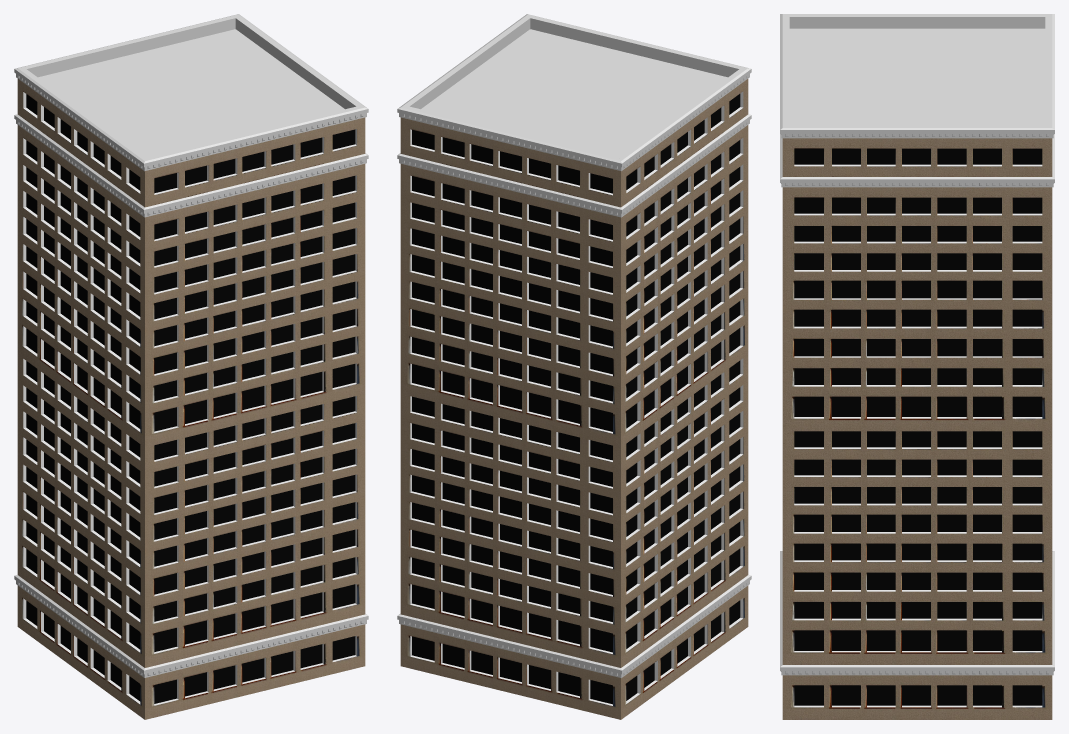
Rendered from buildingbig1.glb.
3 renders of one model, left to right at view 1: azimuth 30°, elevation 25°; view 2: azimuth 150°, elevation 25°; view 3: azimuth 270°, elevation 25°, orthographic. The views are drawn at different scales.
Parts seen in each view (by area): view 1: SM_SimpleB_1A; view 2: SM_SimpleB_1A; view 3: SM_SimpleB_1A.
Part boxes in pixels (left/top/right/bottom): SM_SimpleB_1A: left=14, top=14, right=368, bottom=719; SM_SimpleB_1A: left=397, top=14, right=751, bottom=719; SM_SimpleB_1A: left=780, top=14, right=1054, bottom=719.
Size of the model in its own units: 4.18 by 9.94 by 4.18.
Materials: 6 (1 with a texture image).
